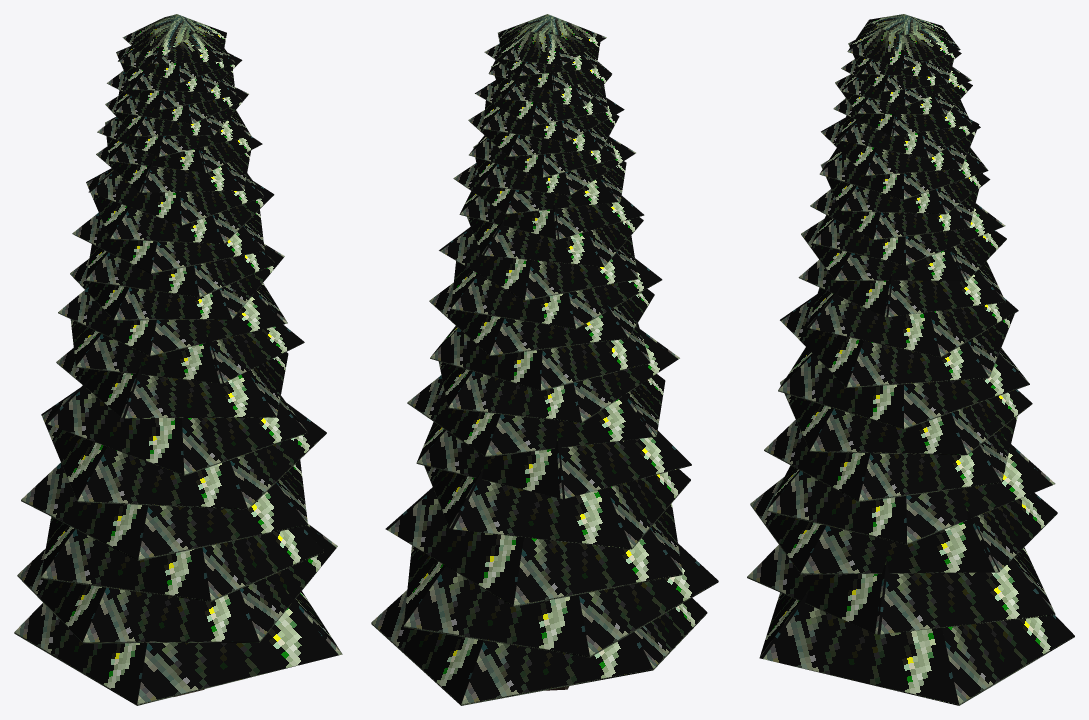
Rendered from treeee.glb.
3 renders of one model, left to right at view 1: azimuth 30°, elevation 25°; view 2: azimuth 150°, elevation 25°; view 3: azimuth 270°, elevation 25°, orthographic.
Visible parts, largest first — view 1: Cone; view 2: Cone; view 3: Cone.
Part boxes in pixels (left/top/right/bottom): Cone: left=14, top=14, right=342, bottom=705; Cone: left=371, top=14, right=718, bottom=705; Cone: left=747, top=14, right=1074, bottom=705.
Size of the model in its own units: 5.45 by 12.23 by 5.51.
2 materials, 2 textured.
